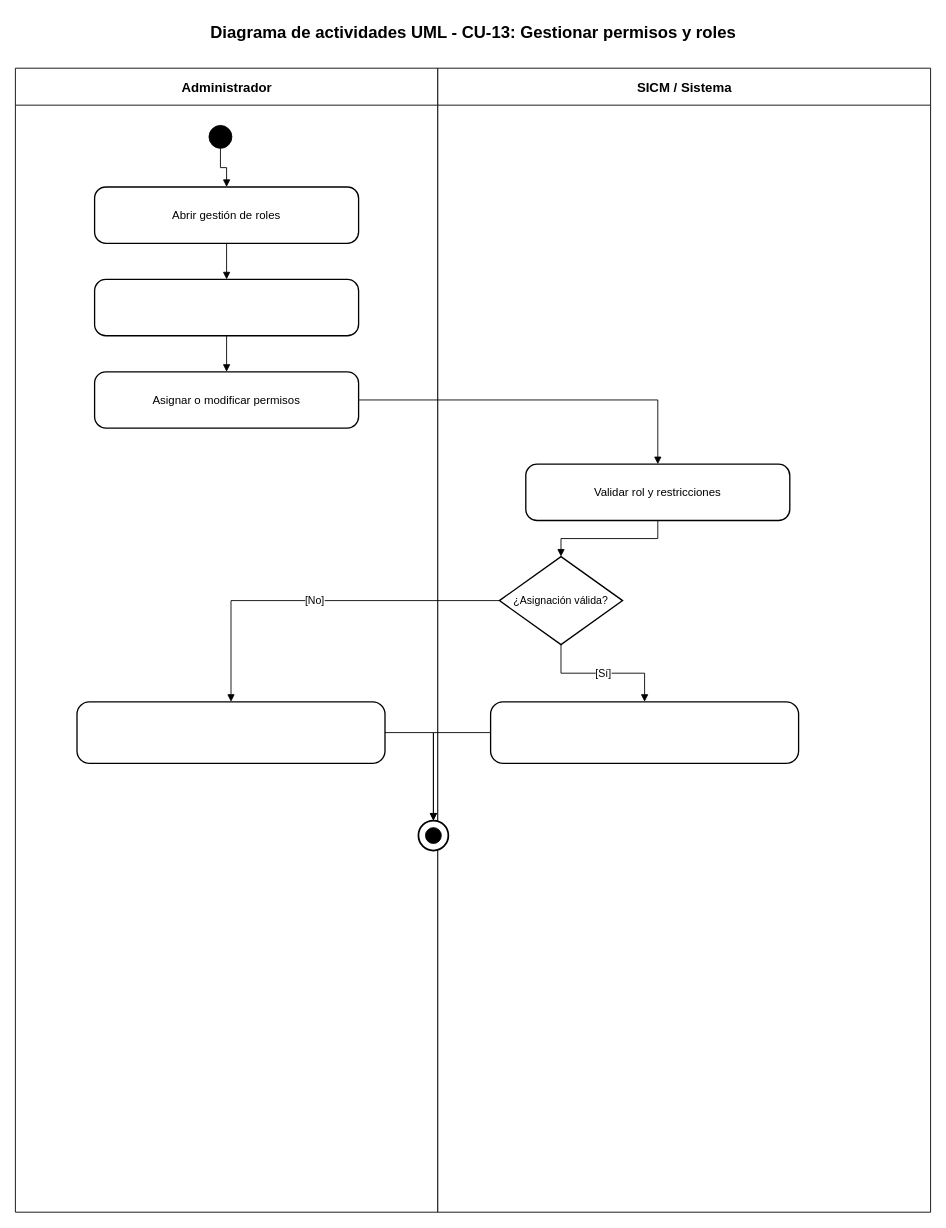
The diagram is 946 pixels wide and 1228 high, and some of its shapes have lost their labels. Each missing label, with the centre of its shape:
"Guardar permisos y auditar el cambio" belongs at (644,732).
"Rechazar cambio y mostrar causa" belongs at (230,732).
"Seleccionar usuario" belongs at (226,307).
